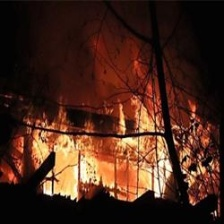fire: (22, 114, 203, 205)
